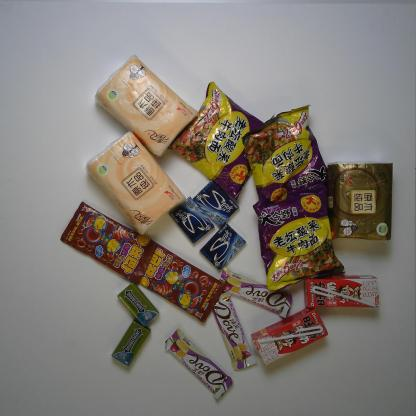Candy: (127, 238, 226, 323), (59, 201, 154, 283)
Chocolate: (164, 327, 234, 400), (219, 266, 293, 320), (210, 290, 258, 372)
Gum: (167, 196, 216, 244), (199, 222, 247, 270), (192, 180, 239, 229), (110, 318, 152, 367), (116, 281, 158, 327)
Instant Noodles: (166, 81, 266, 201), (240, 103, 329, 213), (252, 190, 346, 292)
Milk: (250, 306, 329, 367), (304, 274, 380, 309)
Tissue: (92, 52, 199, 158), (83, 130, 189, 237), (327, 160, 394, 241)
